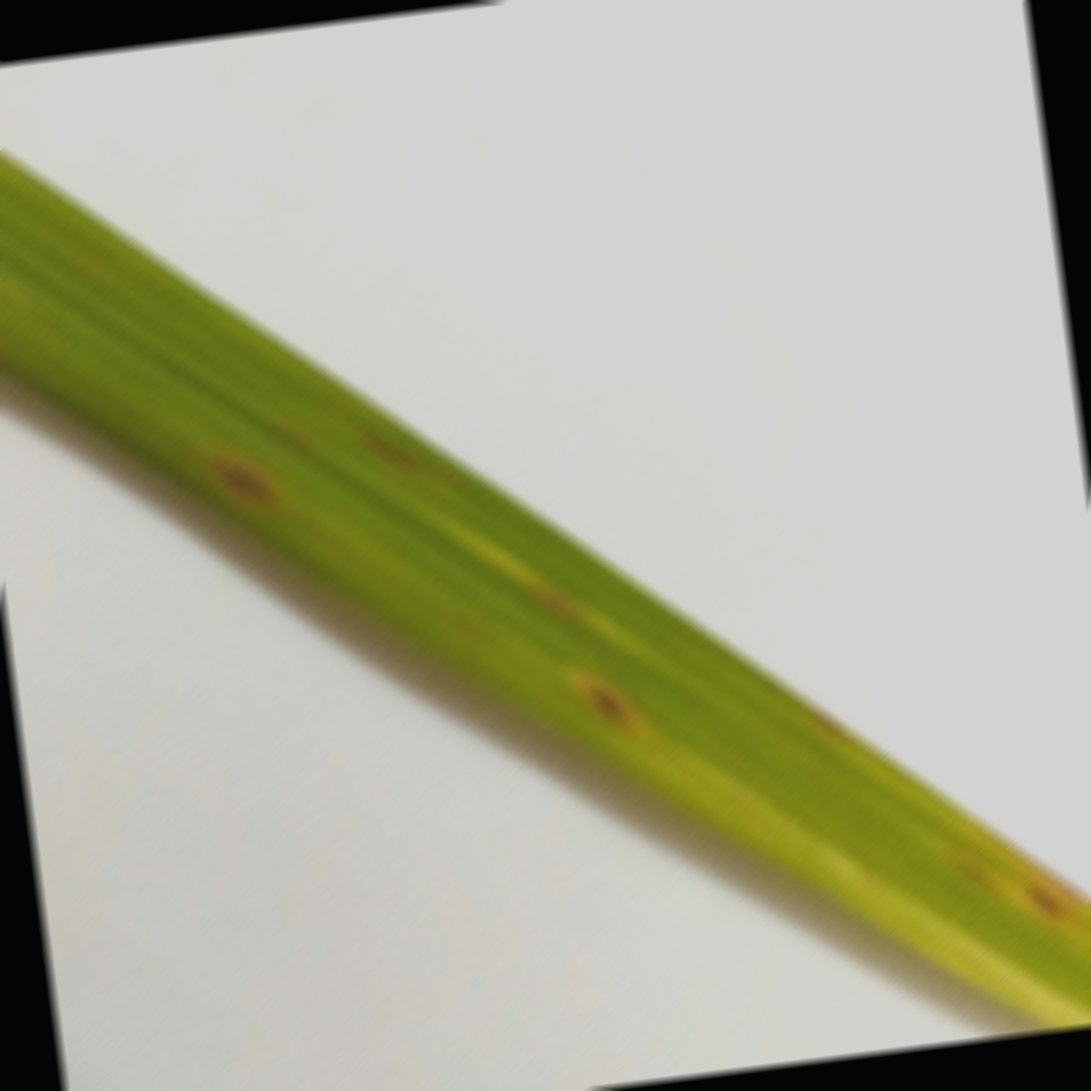Brown_Spot: (565, 644, 648, 747), (202, 434, 288, 526), (347, 405, 428, 489), (517, 564, 582, 630)
